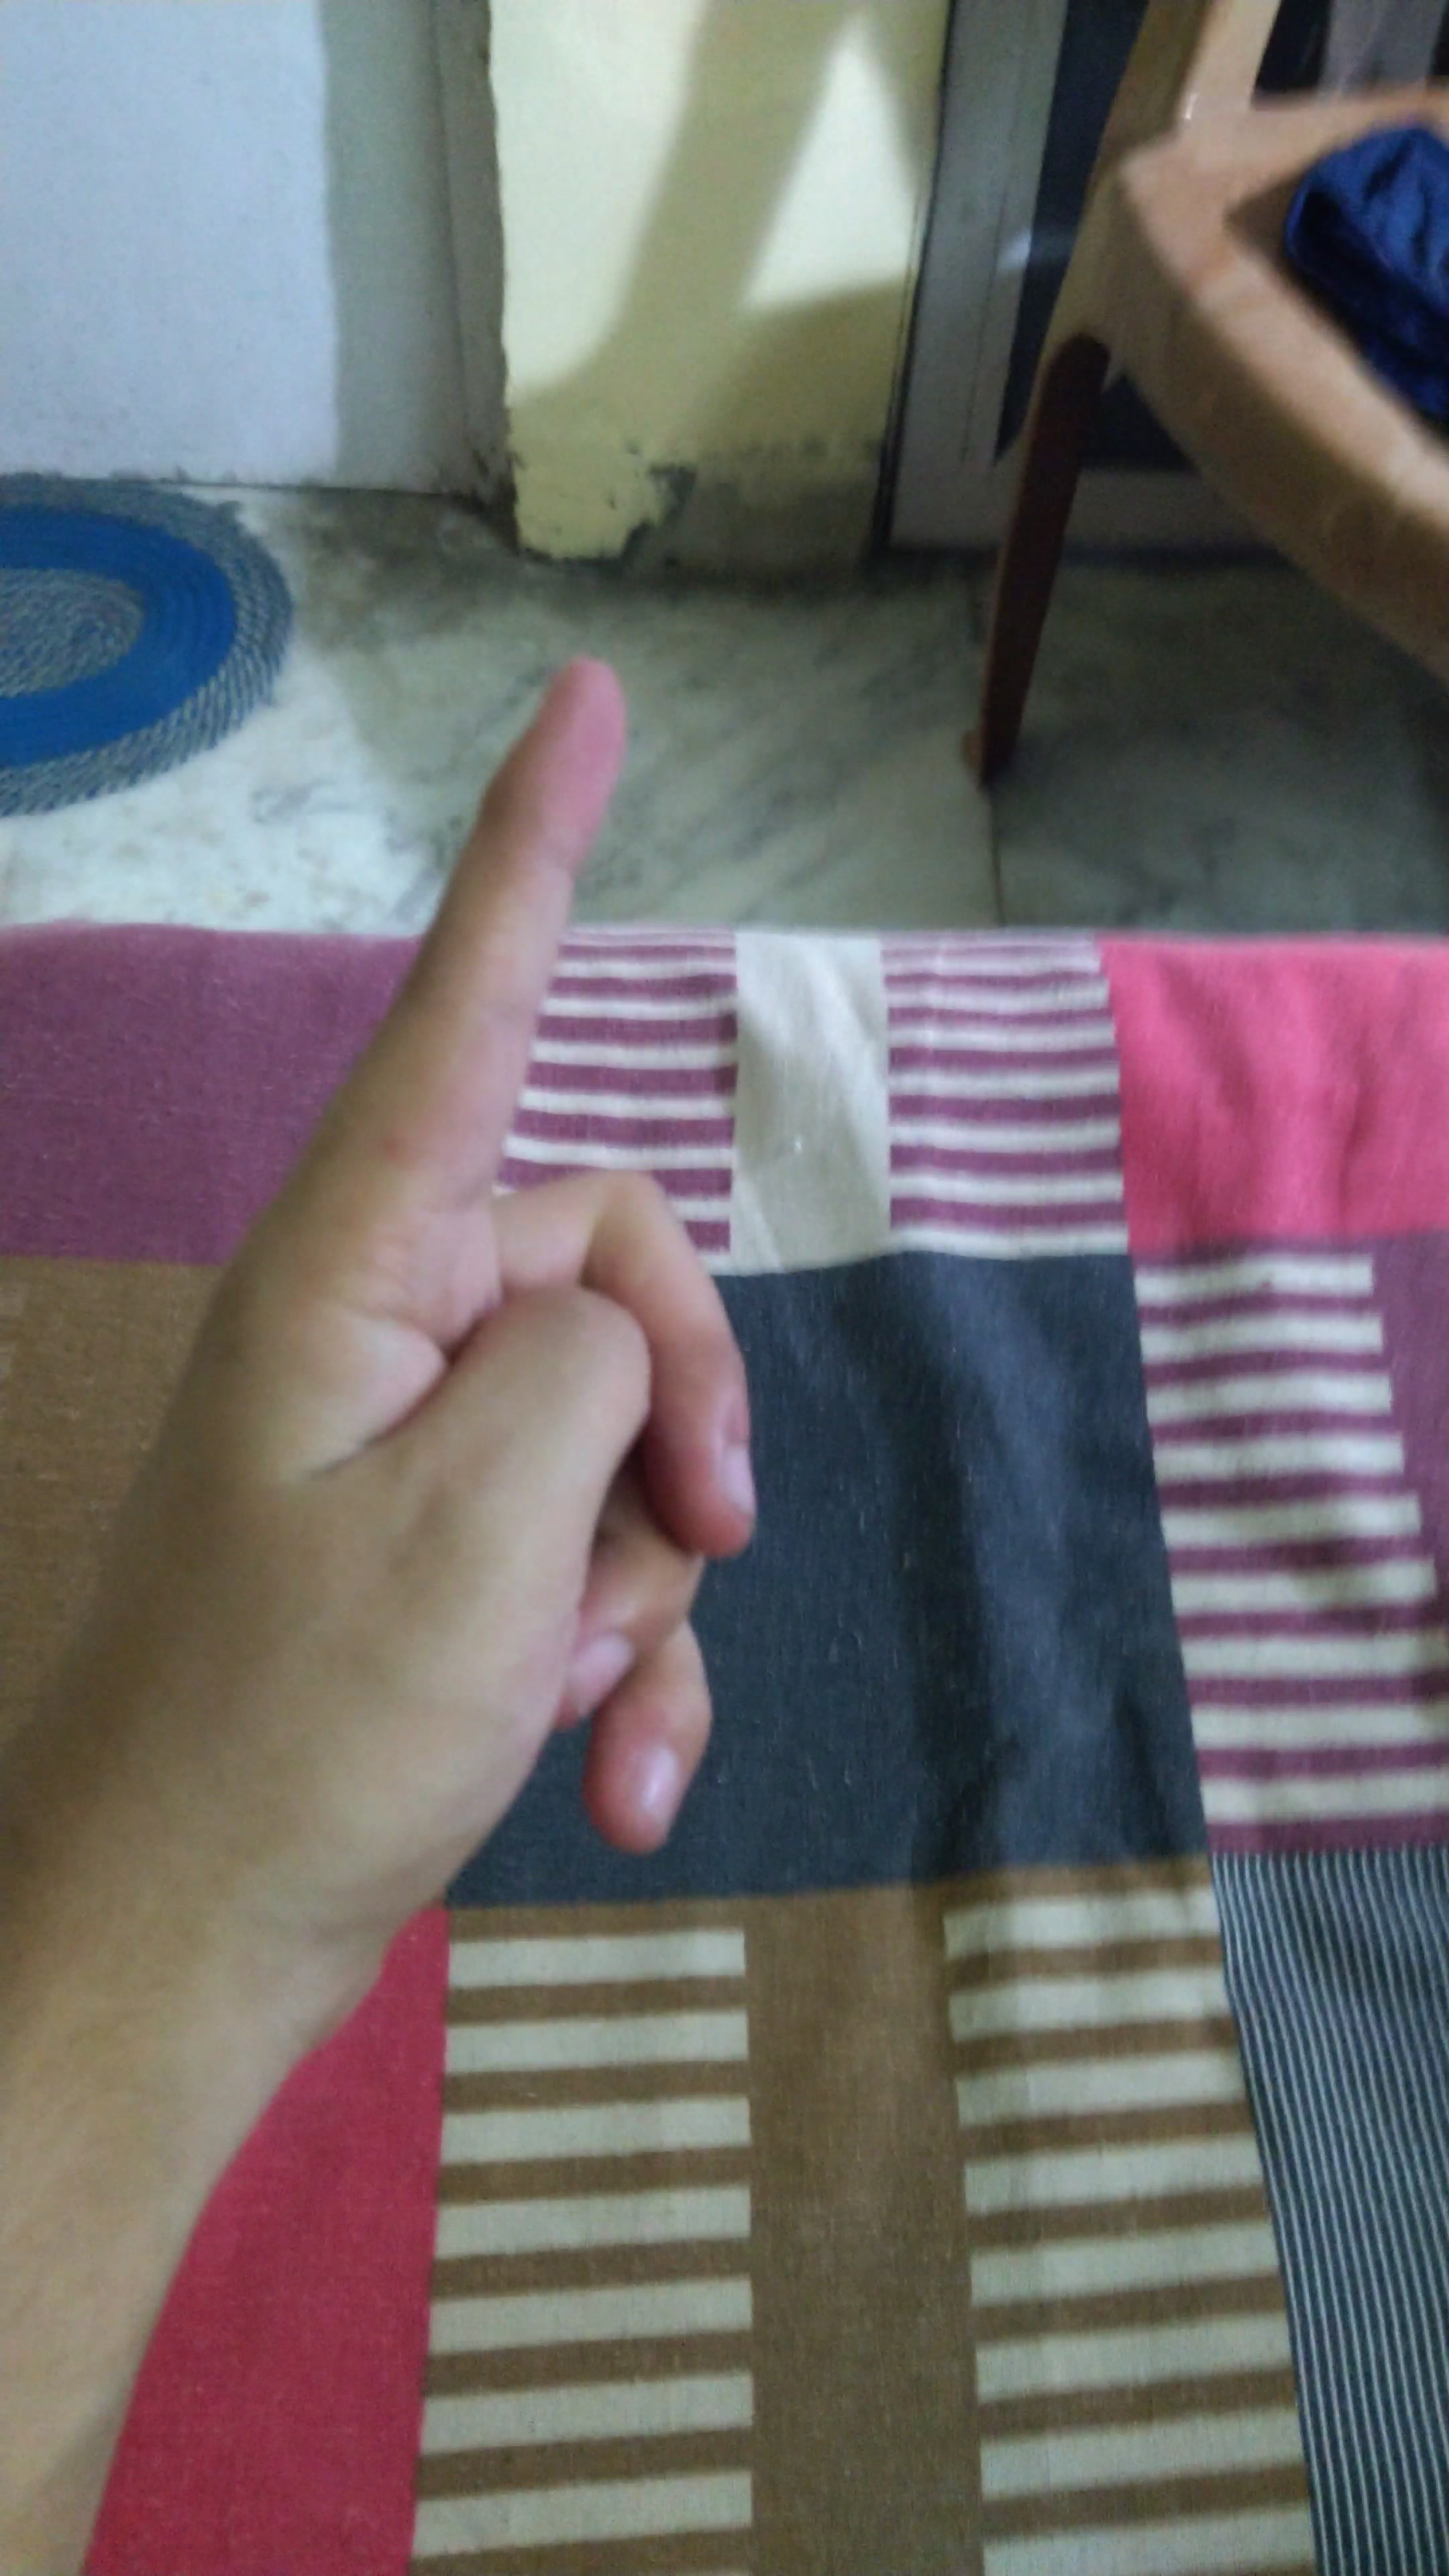hand: (111, 610, 870, 1997)
